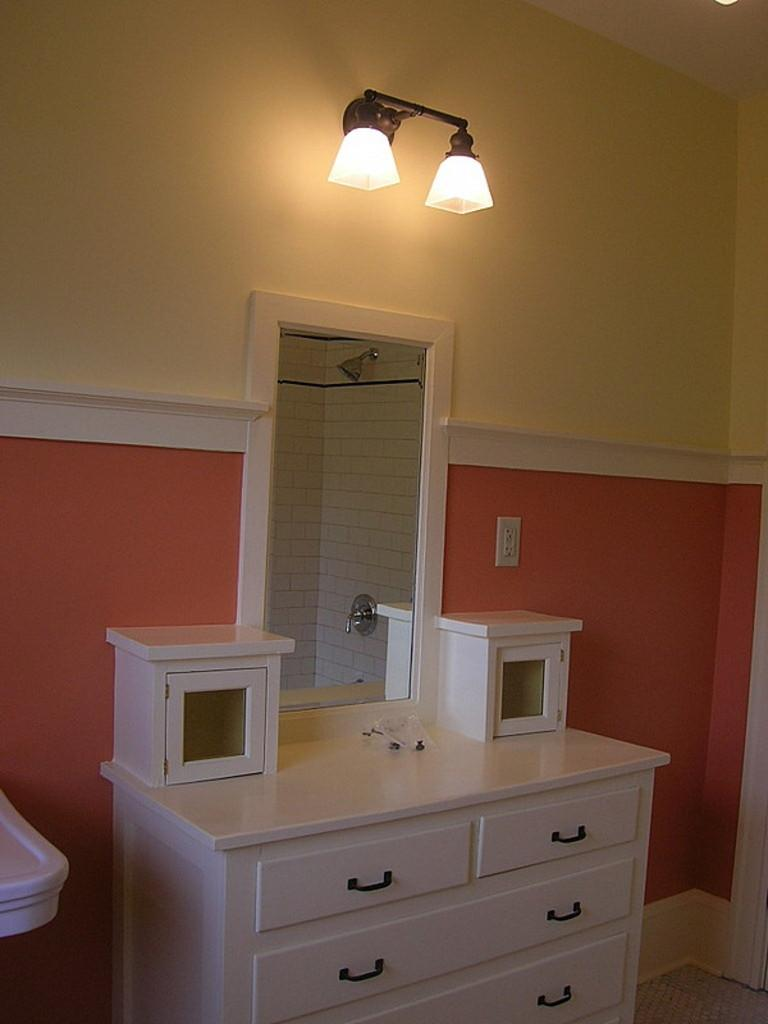cabinet_door: (308, 902, 590, 968), (450, 963, 602, 1024), (273, 852, 465, 892), (486, 810, 637, 854)
handle: (339, 854, 394, 898), (333, 958, 385, 988), (553, 822, 594, 852), (542, 899, 582, 927), (536, 987, 572, 1017)
